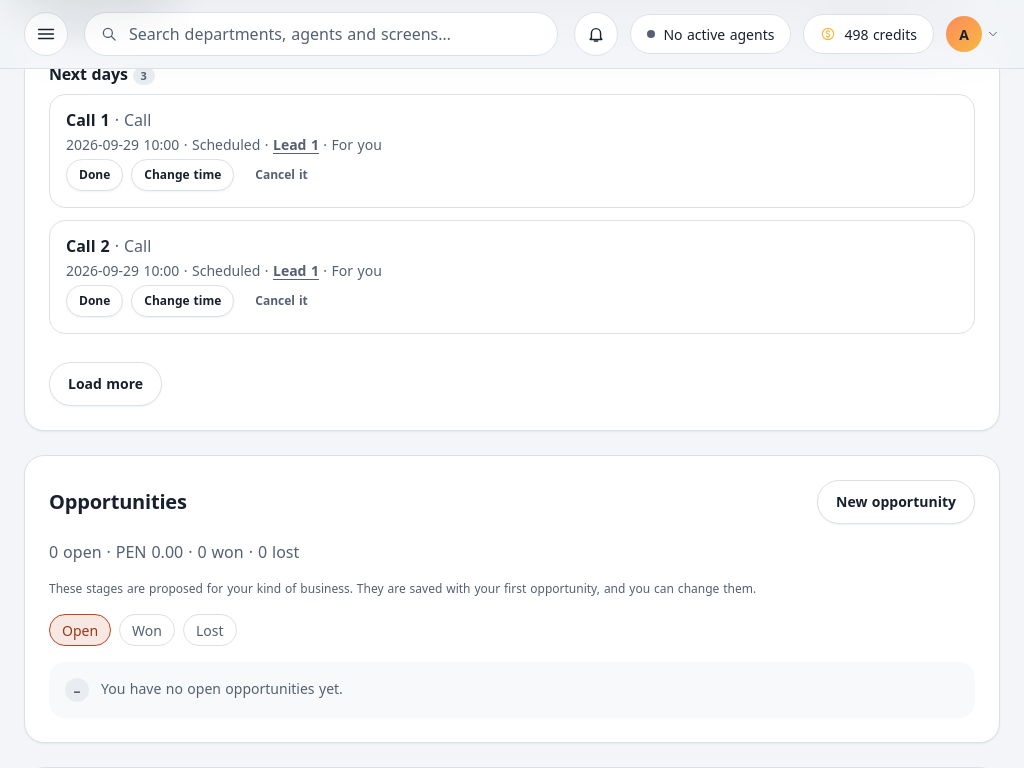
Test case: Comercial's lists, one page at a time (ADR-0061) › pages the pending follow-ups, with the group counts of all of them
(page scrolled)
Expected: the heading "Next days 3" is shown, [49,63,155,85]
Expected: the list item "Call 3" is not shown
Click the button "Load more".
click(106, 384)  # box [49,362,162,406]
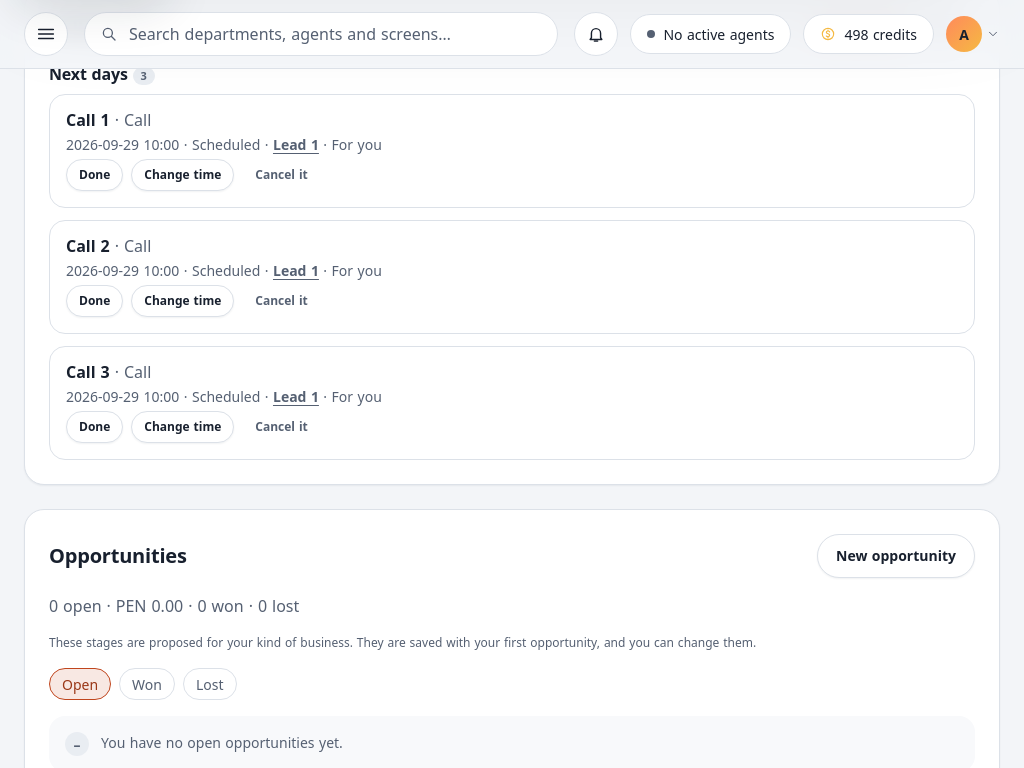
Now the list item "Call 3" is shown, box [49,346,975,460]
